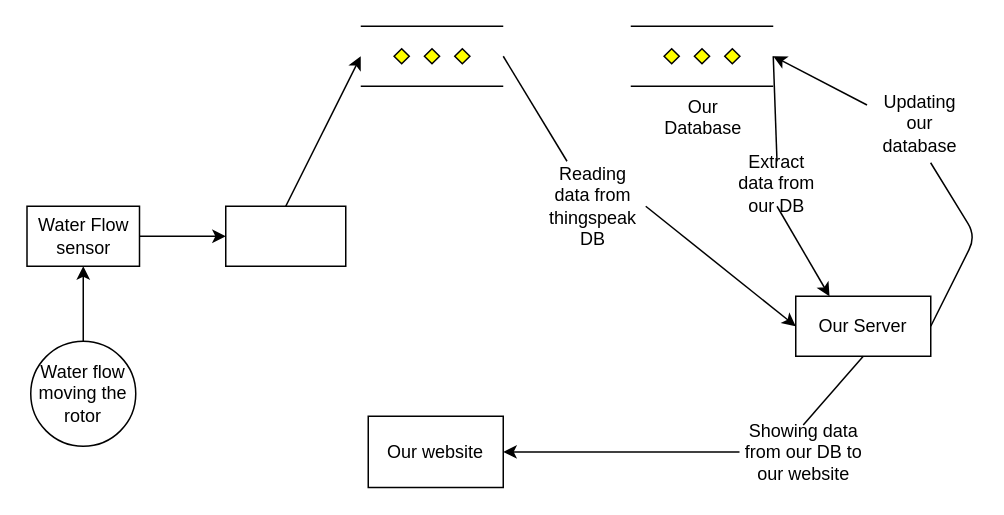
Image size: 1004x515. Some labels were removed from this diagram. The centre of each missing label's shape, as x and y in pixels:
"NodeMCU" belongs at point (285, 235).
"Thingspeak Database" belongs at point (431, 55).
